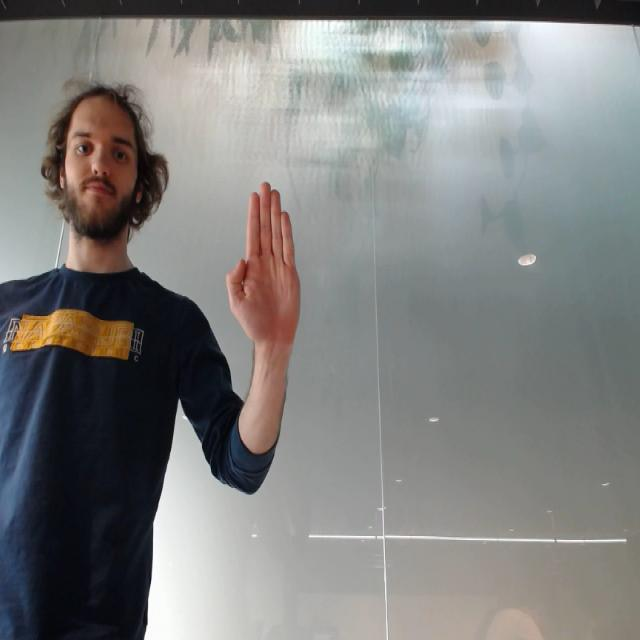backward: (222, 182, 308, 348)
